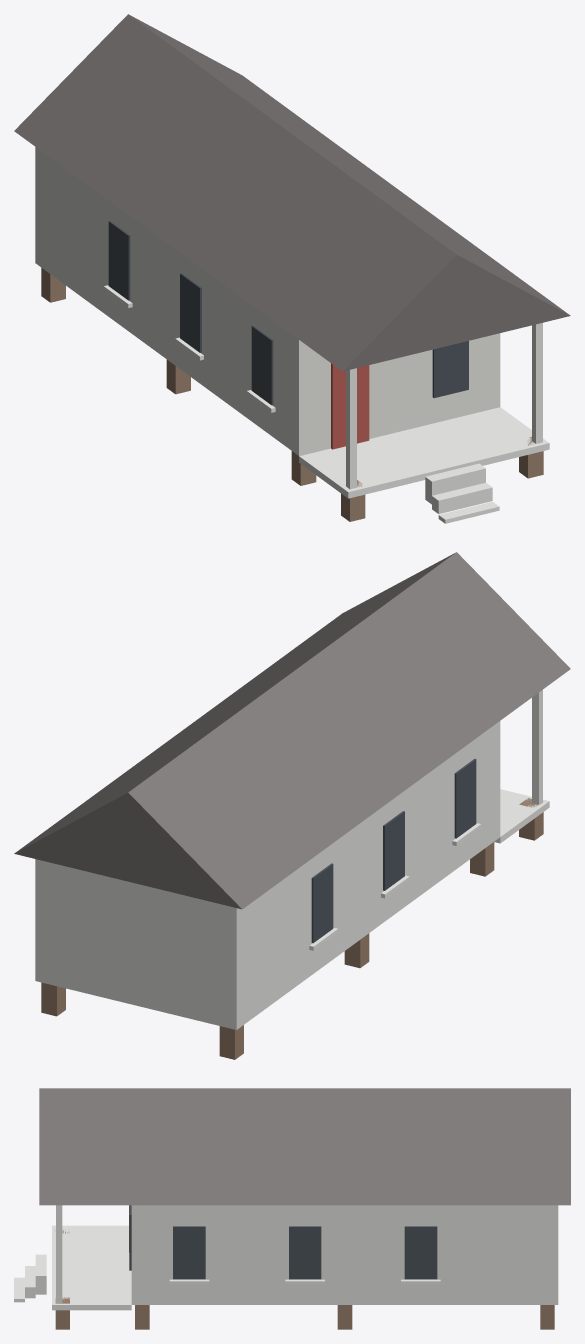
File: SM_House_Shotgun_A.fbx
The picture shows the model from 3 angles, top to bottom: view 1: azimuth 30°, elevation 25°; view 2: azimuth 150°, elevation 25°; view 3: azimuth 270°, elevation 25°; orthographic projection. The views are drawn at different scales.
Parts seen in each view (by area): view 1: SM_House_Shotgun_A_LOD0; view 2: SM_House_Shotgun_A_LOD0; view 3: SM_House_Shotgun_A_LOD0.
Boxes of the visible parts, left/top/right/bottom form: SM_House_Shotgun_A_LOD0: left=14, top=14, right=570, bottom=523; SM_House_Shotgun_A_LOD0: left=14, top=552, right=570, bottom=1059; SM_House_Shotgun_A_LOD0: left=14, top=1088, right=570, bottom=1329.
Size of what is drawn, in the model's own units: 5.9 by 6.2 by 15.4.
